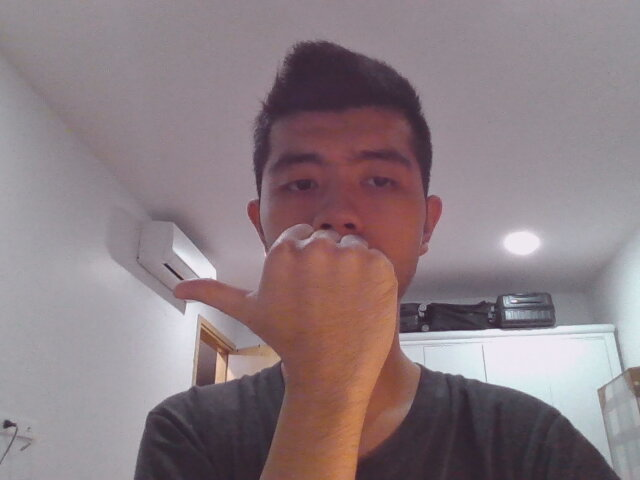right: (170, 223, 403, 355)
